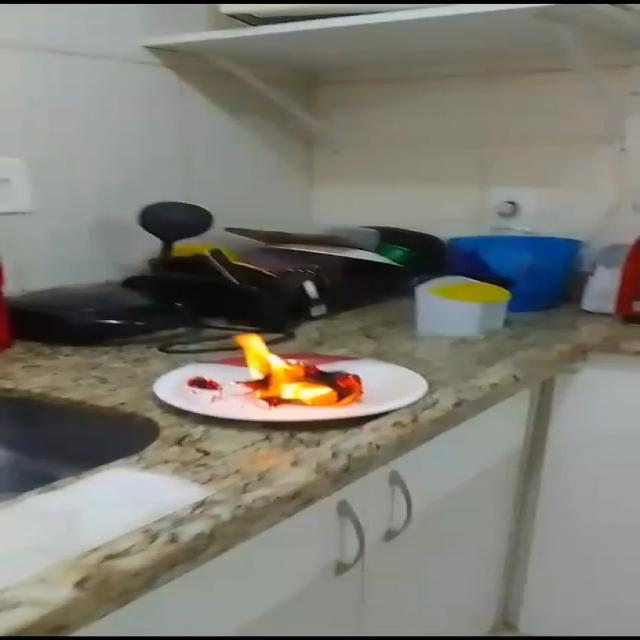fogo-ypXI: (228, 331, 366, 410)
